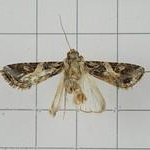Spodoptera litura: (0, 15, 145, 118)
